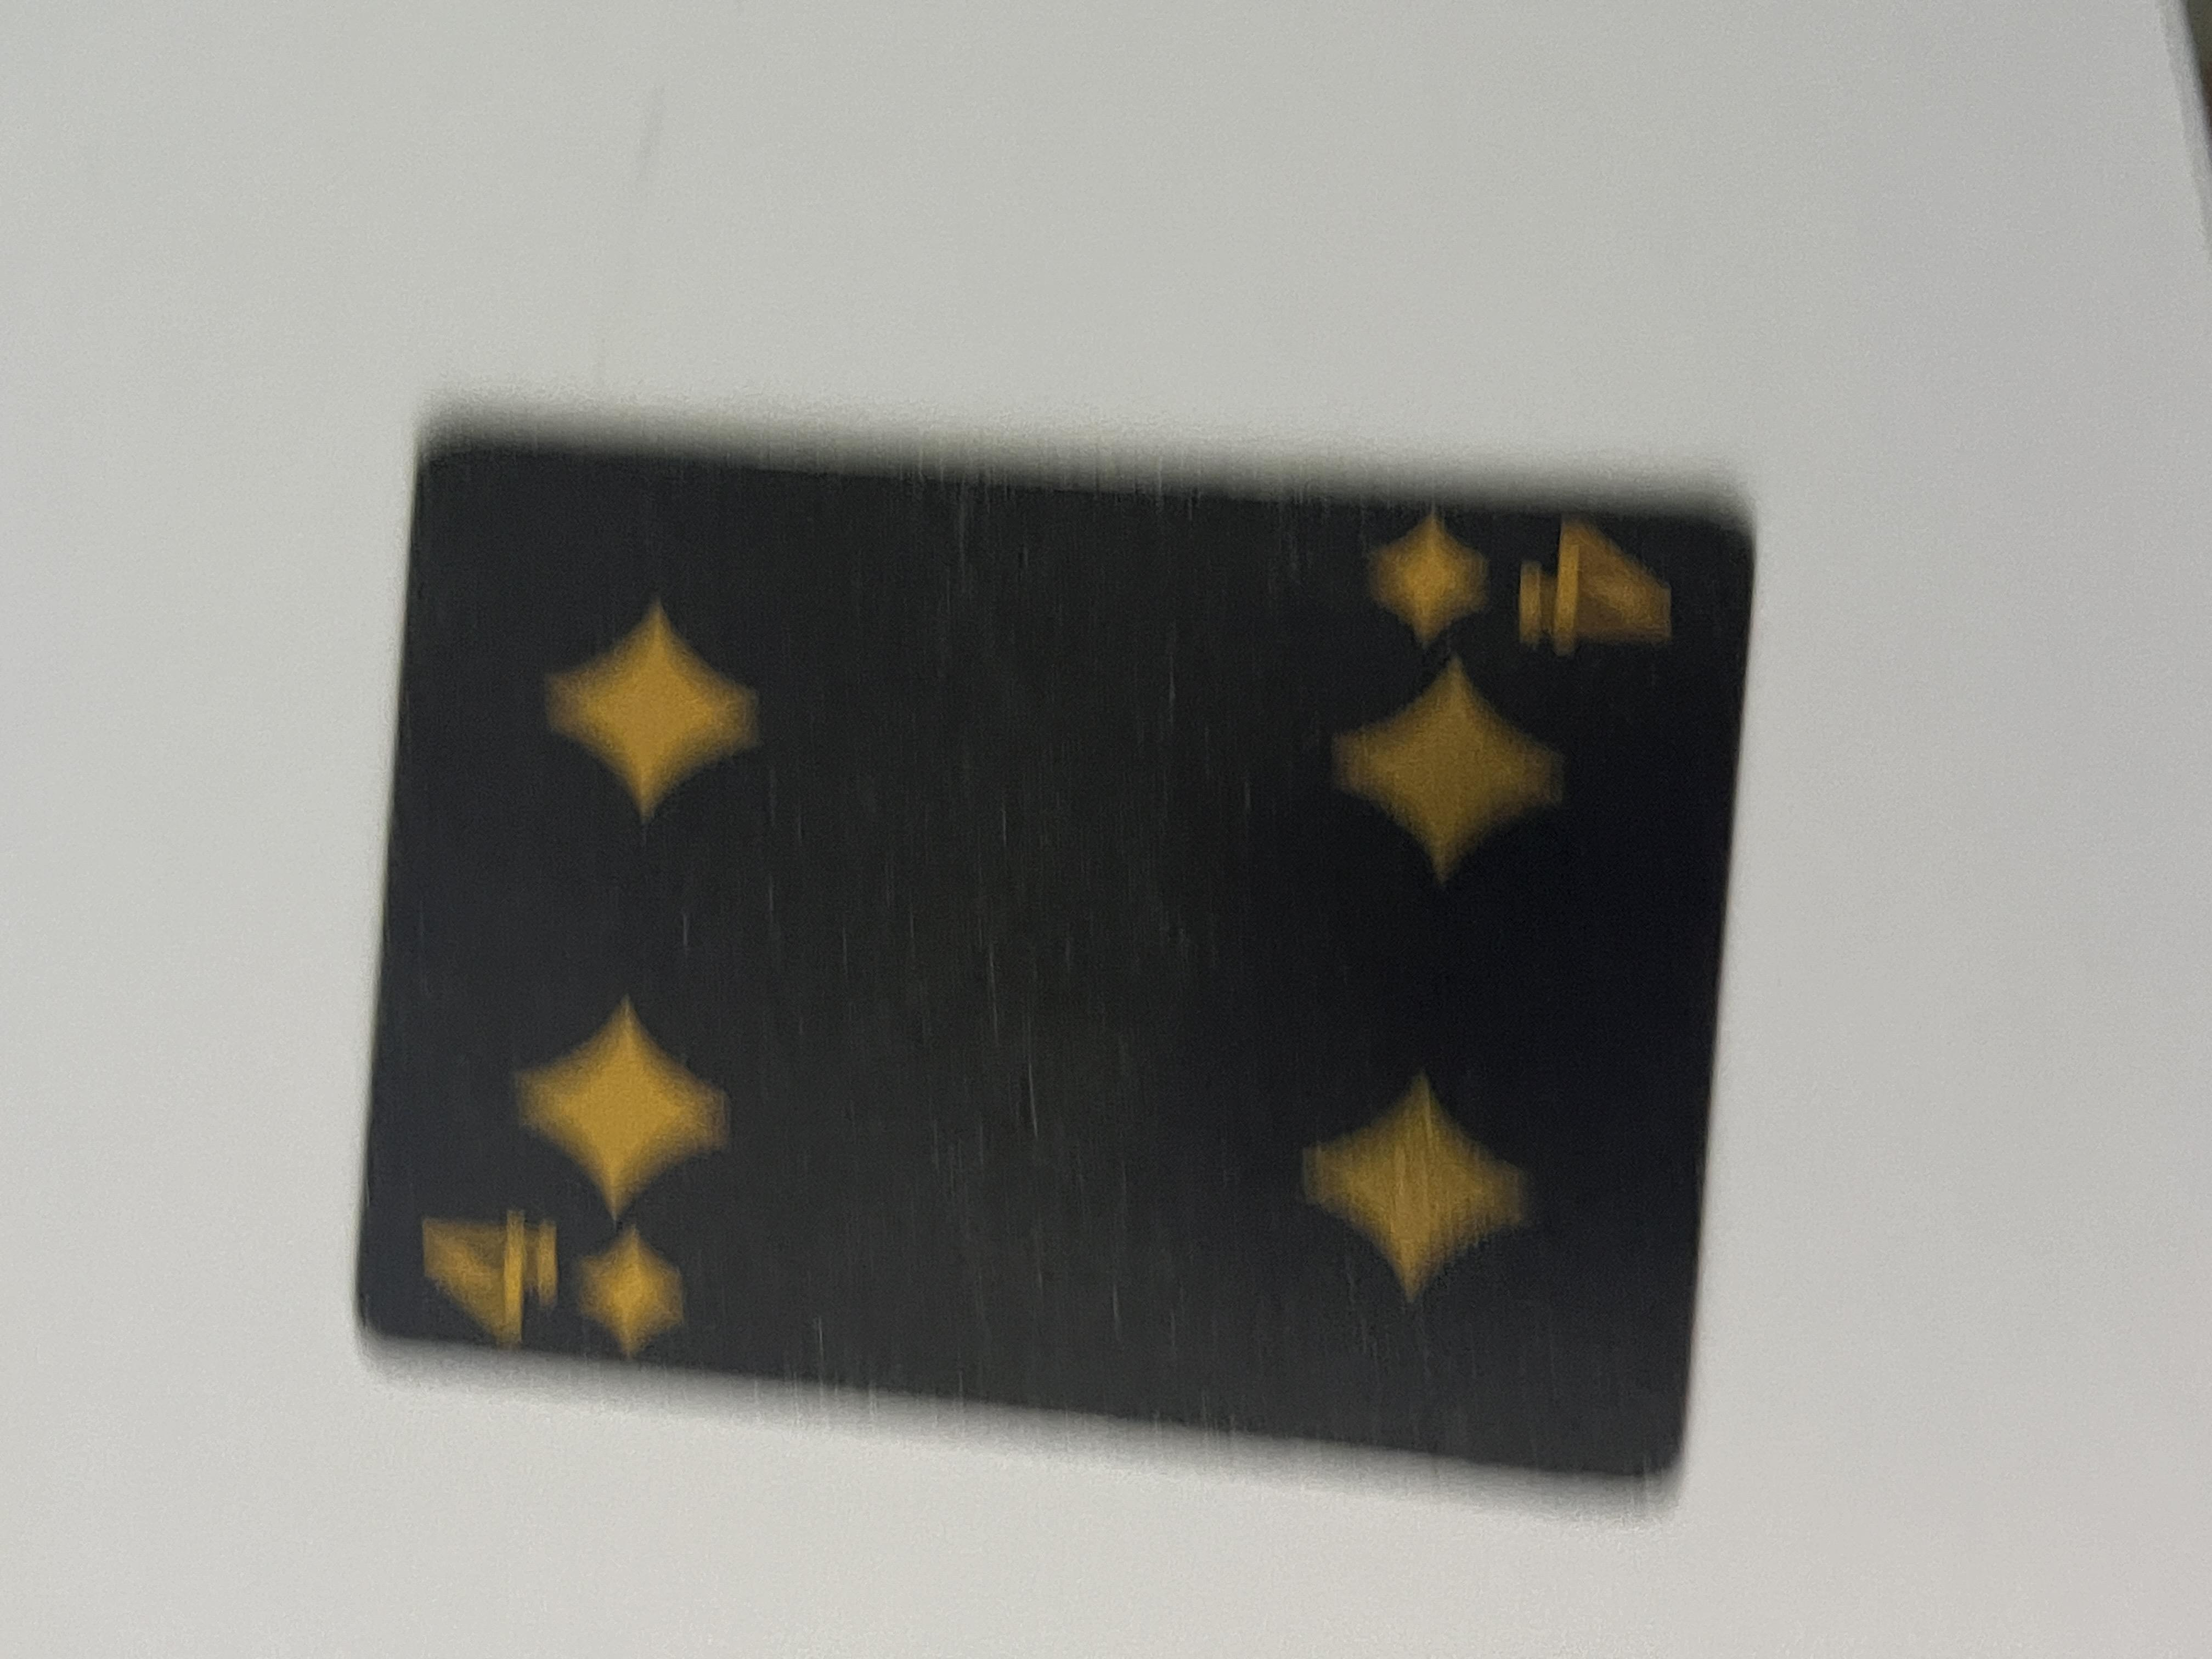4D: (1343, 1011, 1514, 1288), (416, 303, 622, 523)
